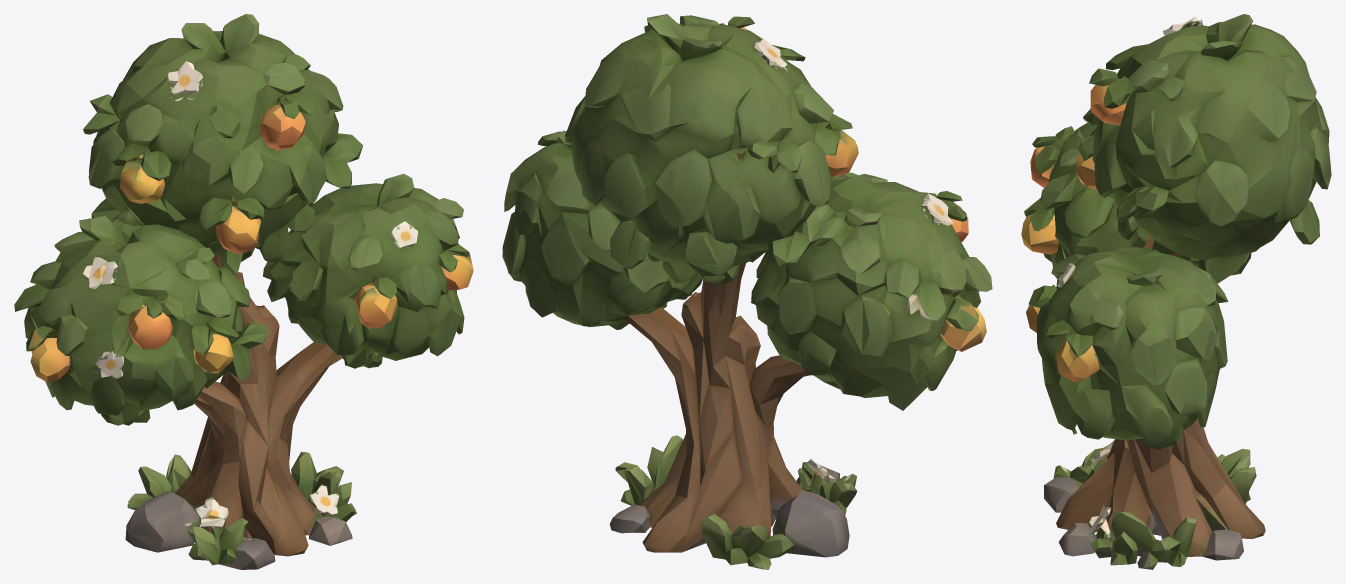
The model's file is common-nature-small-fruit-tree-cottage-normal.glb.
3 views of the same model, side by side, from view 1: azimuth 30°, elevation 25°; view 2: azimuth 150°, elevation 25°; view 3: azimuth 270°, elevation 25° (orthographic). The views are drawn at different scales.
Visible parts, largest first — view 1: Mesh_0; view 2: Mesh_0; view 3: Mesh_0.
Part boxes in pixels (x1,y1,x2,y2): Mesh_0: (14, 14, 473, 569); Mesh_0: (502, 14, 992, 569); Mesh_0: (1021, 14, 1331, 569).
Size of the model in its own units: 1.2 by 1.26 by 0.7105.
Materials: 1 (1 with a texture image).
